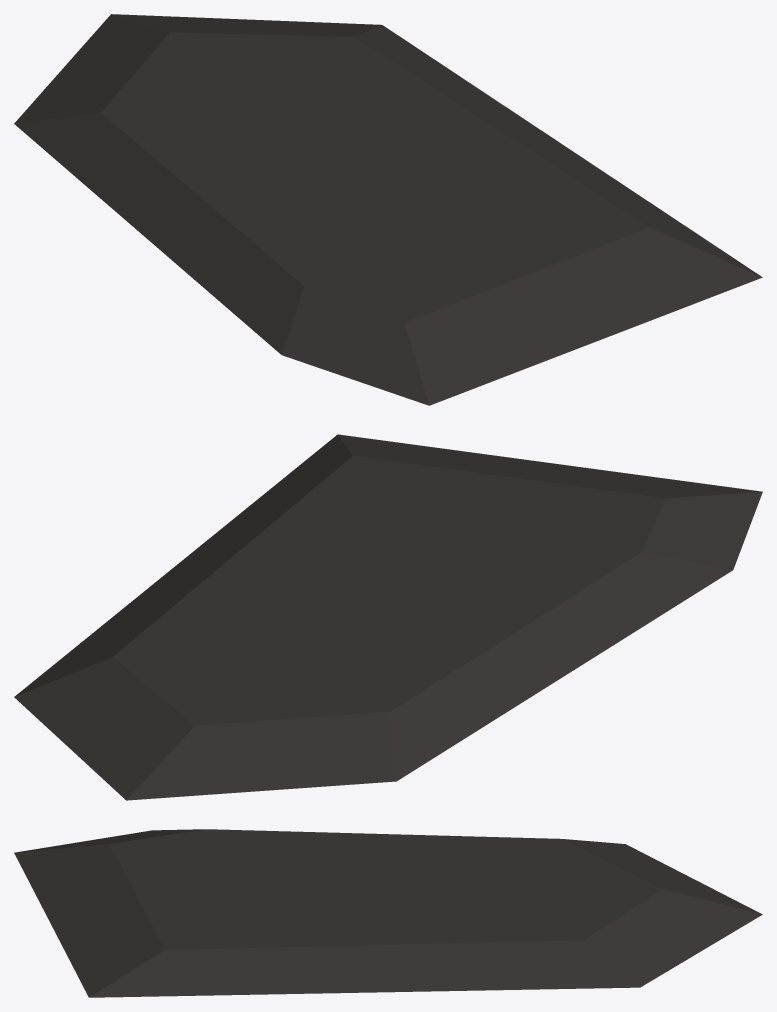
The model's file is Stone_Tile_01.glb.
3 views of the same model, one above another, from view 1: azimuth 30°, elevation 25°; view 2: azimuth 150°, elevation 25°; view 3: azimuth 270°, elevation 25° (orthographic). The views are drawn at different scales.
Visible parts, largest first — view 1: Stone_Tile_01; view 2: Stone_Tile_01; view 3: Stone_Tile_01.
Boxes of the visible parts, <box> form: Stone_Tile_01: <box>14,14,762,405</box>; Stone_Tile_01: <box>14,434,762,800</box>; Stone_Tile_01: <box>14,829,762,997</box>.
Size of what is drawn, in the model's own units: 0.5768 by 0.0376 by 1.09.
Materials: 1 (1 with a texture image).
